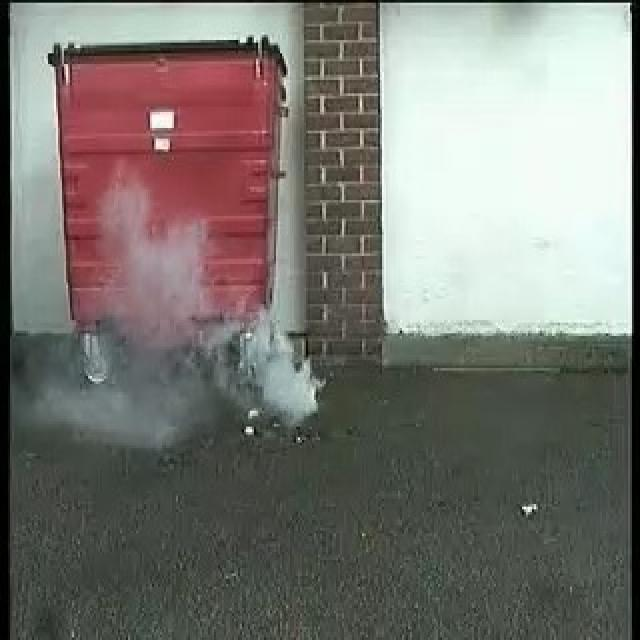smoke: (132, 238, 325, 420)
